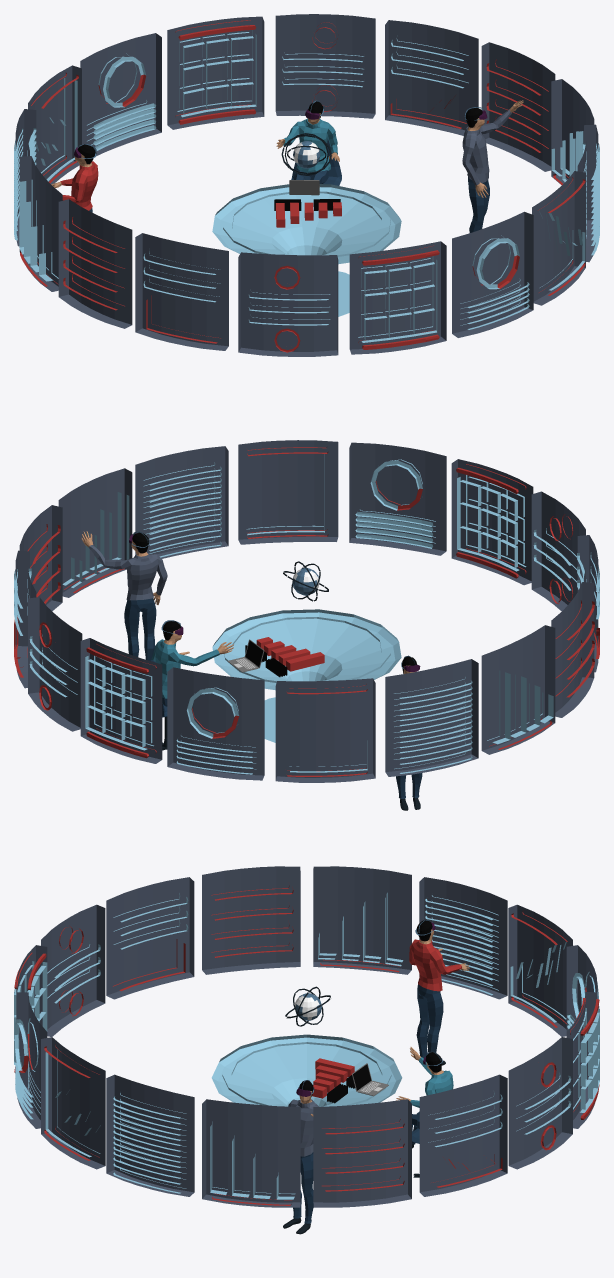
File: IXTC.gltf
The picture shows the model from 3 angles, top to bottom: view 1: azimuth 30°, elevation 25°; view 2: azimuth 150°, elevation 25°; view 3: azimuth 270°, elevation 25°; orthographic projection.
Parts seen in each view (by area): view 1: Cylinder028, Circle011, Cube002, Cube, Cube003, Sphere001; view 2: Cylinder028, Circle011, Cube002, Cube, Sphere001, Cube003, Laptop002; view 3: Cylinder028, Circle011, Cube003, Cube002, Cube, Sphere001, Laptop002.
Boxes of the visible parts, x1,y1,x2,y2 form: Cylinder028: (14,14,599,356); Circle011: (212,184,401,316); Cube002: (462,100,523,232); Cube: (276,100,339,172); Cube003: (51,144,98,212); Sphere001: (281,133,331,175); Cylinder028: (14,440,599,782); Circle011: (212,609,401,742); Cube002: (81,531,167,660); Cube: (151,620,233,698); Sphere001: (283,561,328,601); Cube003: (396,655,422,810); Laptop002: (227,639,264,672); Cylinder028: (14,866,599,1207); Circle011: (211,1034,402,1106); Cube003: (409,919,469,1065); Cube002: (283,1080,318,1234); Cube: (396,1047,453,1148); Sphere001: (285,986,330,1026); Laptop002: (352,1063,388,1096).
Size of the model in its own units: 524 by 156 by 524.
